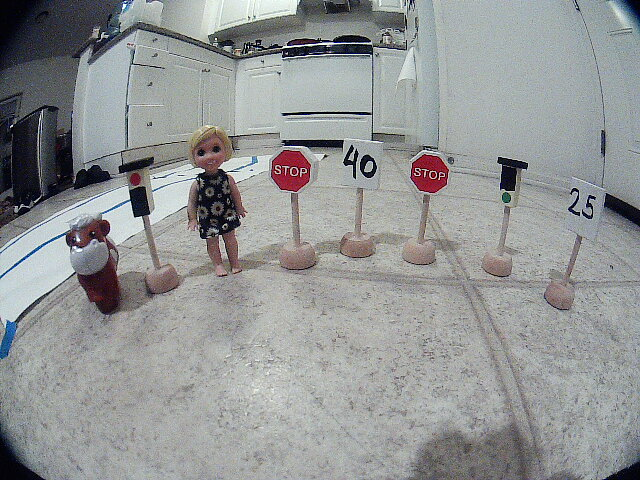Cow: (45, 205, 132, 325)
Green Traffic Light: (489, 146, 543, 223)
Person: (174, 125, 267, 288)
Red Traffic Light: (114, 155, 176, 226)
Speed Limit 25: (558, 170, 619, 258)
Speed Limit 40: (335, 129, 391, 199)
Stop Sign: (260, 140, 325, 197), (404, 144, 462, 200)
